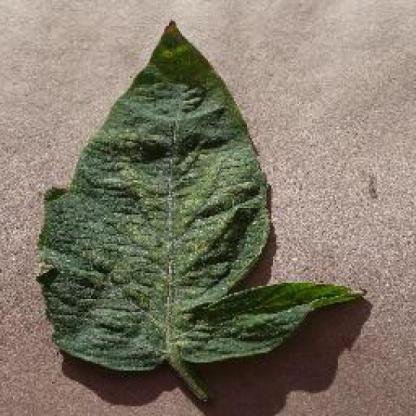Tomato_Spider_Mites: (41, 21, 365, 369)
